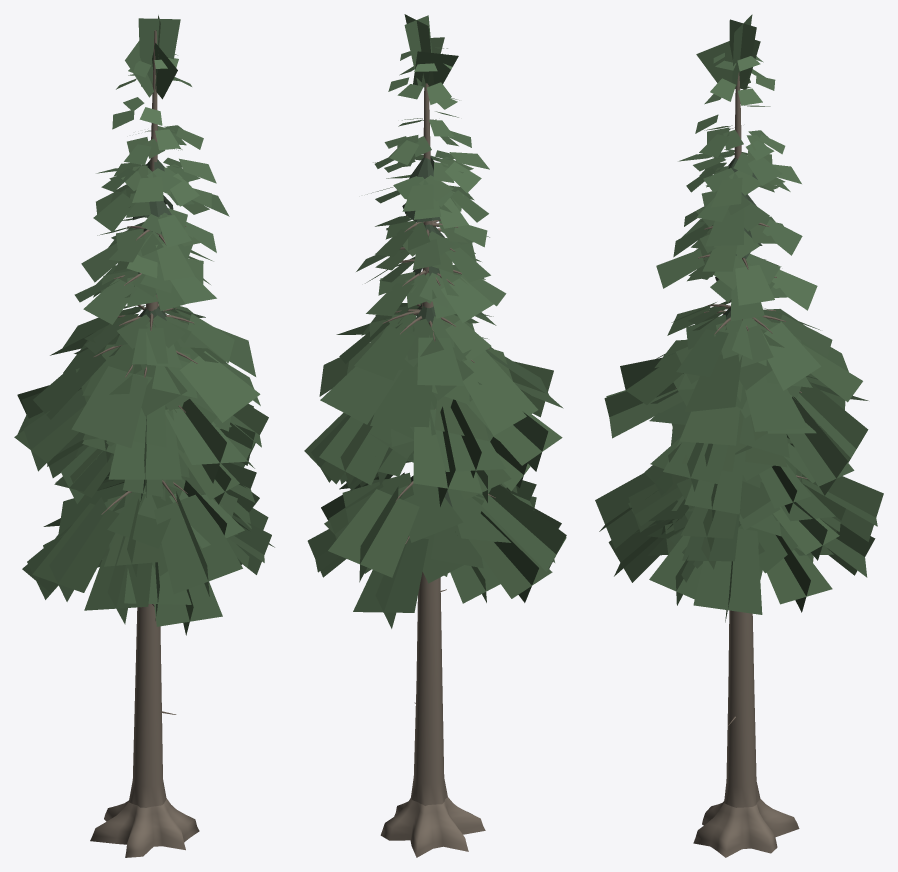
Rendered from fir_tall.glb.
3 renders of one model, left to right at view 1: azimuth 30°, elevation 25°; view 2: azimuth 150°, elevation 25°; view 3: azimuth 270°, elevation 25°, orthographic.
Visible parts, largest first — view 1: fir_tall; view 2: fir_tall; view 3: fir_tall.
Part boxes in pixels (bbox=[...]): fir_tall: bbox=[14, 15, 274, 857]; fir_tall: bbox=[304, 14, 566, 857]; fir_tall: bbox=[595, 14, 883, 857].
Size of the model in its own units: 7.59 by 24.97 by 7.97.
